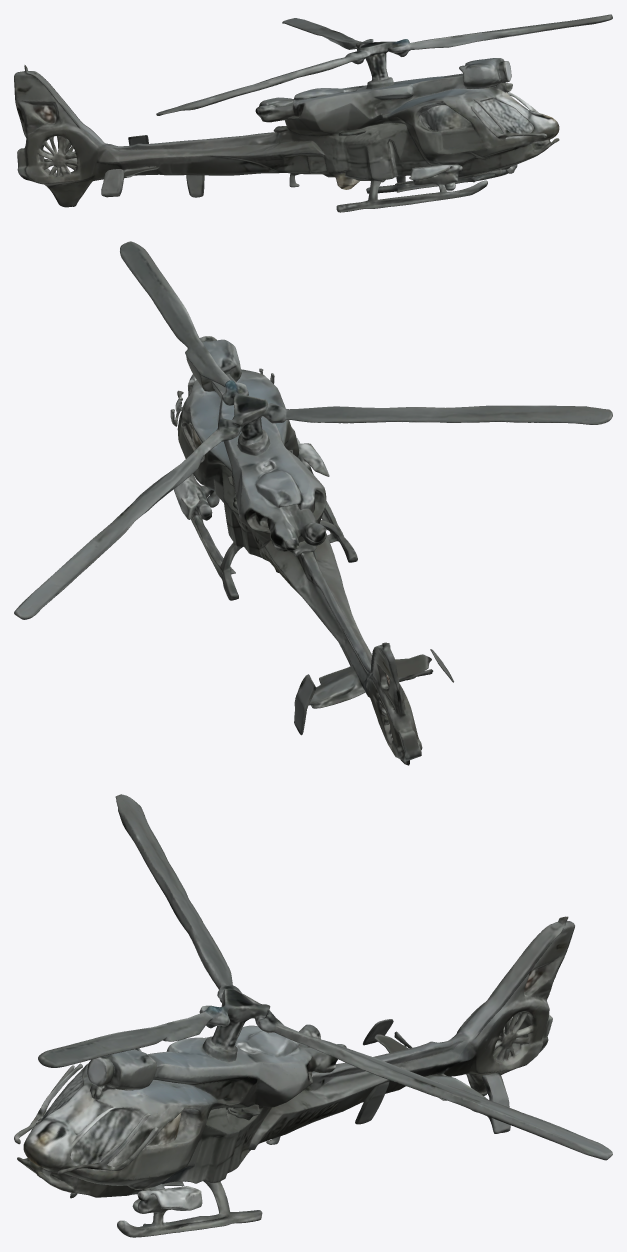
Rendered from pixal3d.glb.
3 renders of one model, top to bottom at view 1: azimuth 30°, elevation 25°; view 2: azimuth 150°, elevation 25°; view 3: azimuth 270°, elevation 25°, orthographic. The views are drawn at different scales.
Visible parts, largest first — view 1: world; view 2: world; view 3: world.
Boxes of the visible parts, x1,y1,x2,y2 form: world: (14, 14, 612, 212); world: (14, 241, 612, 765); world: (14, 794, 612, 1237).
Size of the model in its own units: 0.8299 by 0.3988 by 0.7269.
Materials: 1 (1 with a texture image).
